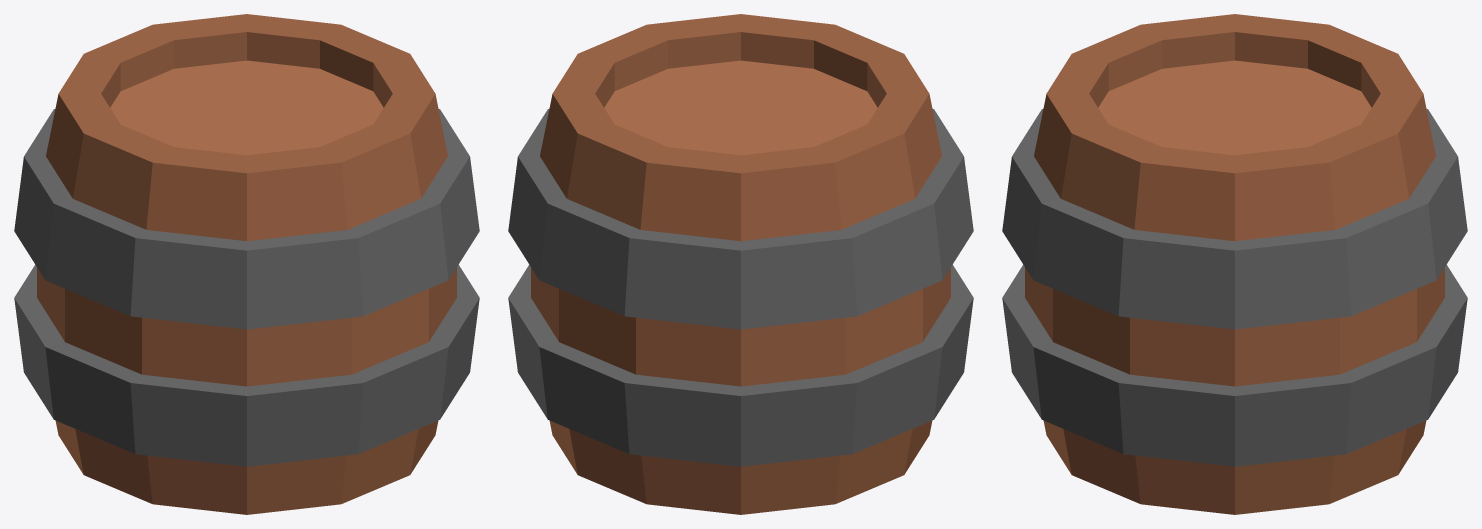
The model's file is barrel_1.obj.
The picture shows the model from 3 angles, left to right: view 1: azimuth 30°, elevation 25°; view 2: azimuth 150°, elevation 25°; view 3: azimuth 270°, elevation 25°; orthographic projection.
Parts seen in each view (by area): view 1: barrel_1; view 2: barrel_1; view 3: barrel_1.
Part boxes in pixels (left/top/right/bottom): barrel_1: left=14, top=14, right=479, bottom=514; barrel_1: left=508, top=14, right=973, bottom=514; barrel_1: left=1002, top=14, right=1467, bottom=514.
Size of the model in its own units: 0.4007 by 0.3245 by 0.4007.
